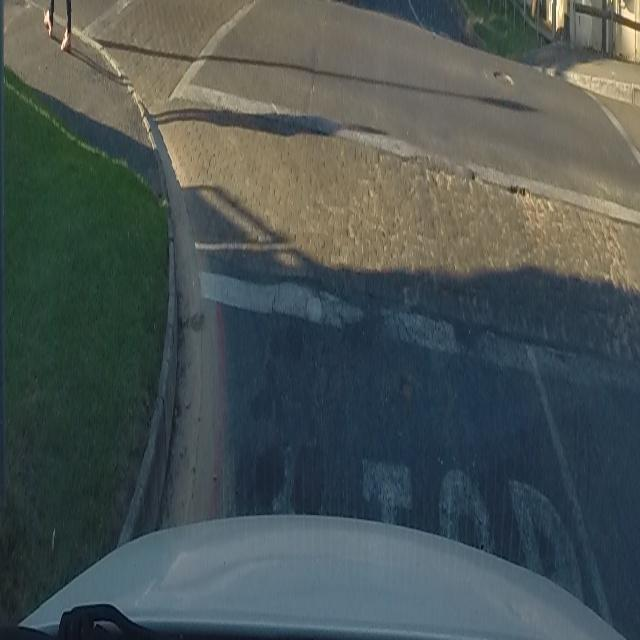pothole: (509, 182, 531, 198)
